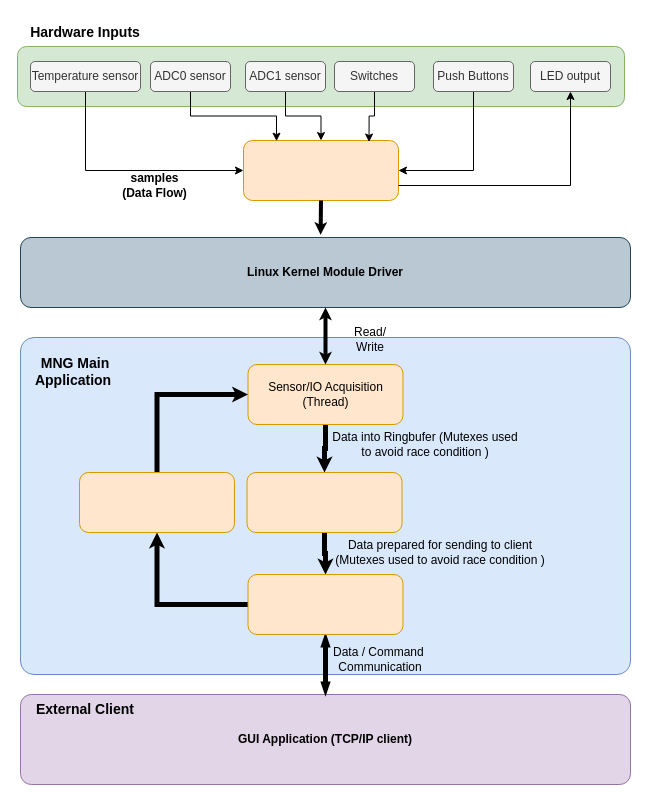
Some shapes in this 648 by 802 pixel diagram are drawn without their labels. The centre of each missing label's shape, as x and y in pixels:
"Configuration + Control (Sampling Rate Config)" goes at point (156, 502).
"Network Server (Server Thread)" goes at point (325, 604).
"Ring Buffer (Shared Data Structure)" goes at point (324, 502).
"Sensor/IO Acquisition (Sensor Thread)" goes at point (320, 170).
